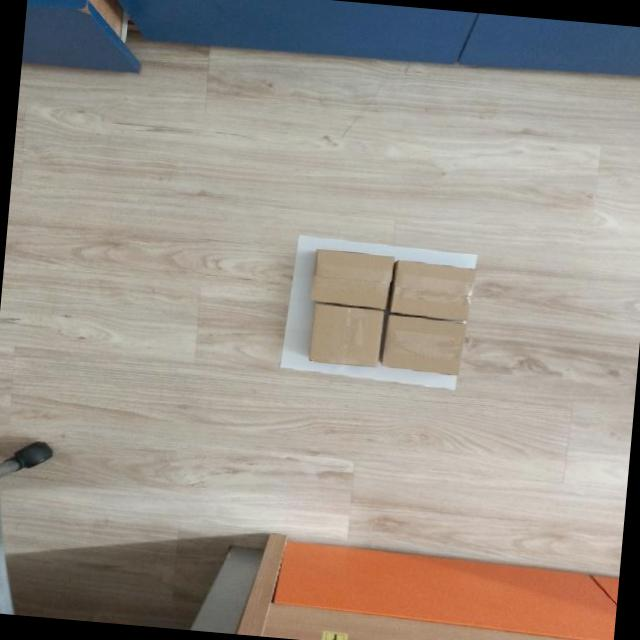box: (307, 246, 396, 307), (306, 302, 387, 369), (380, 313, 468, 374), (389, 260, 477, 320)
